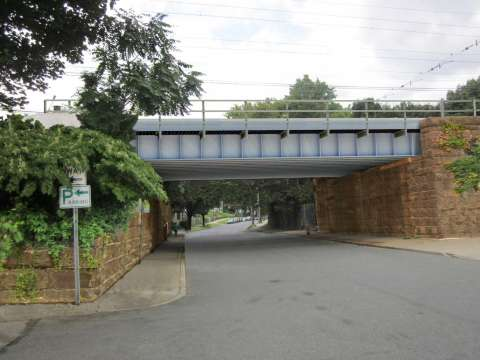bridge: (36, 95, 479, 237)
